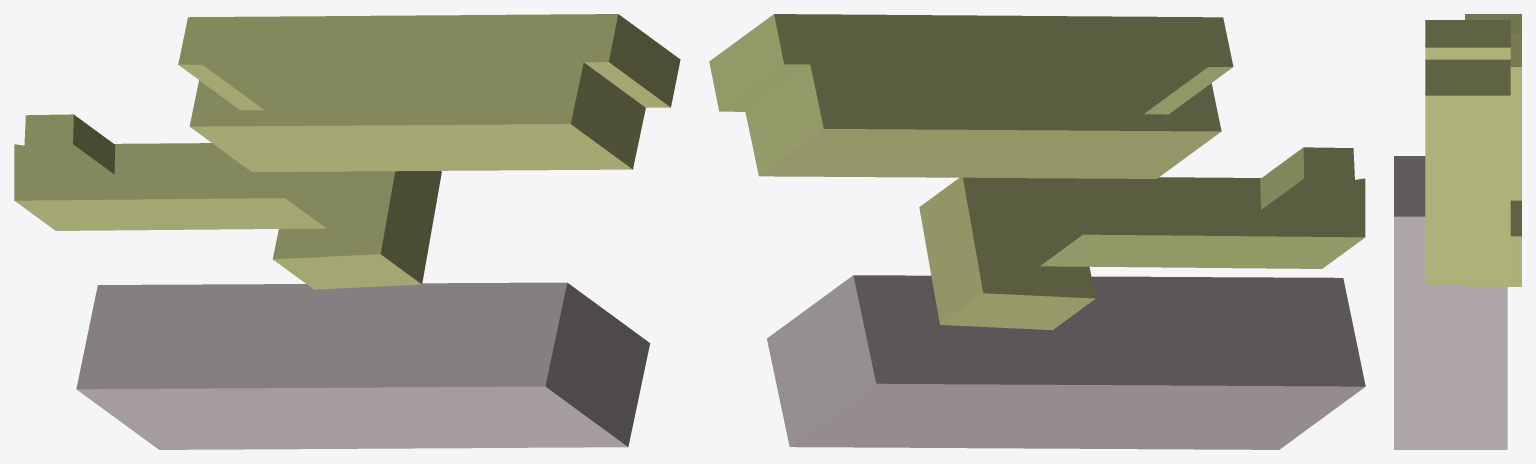
The picture shows the model from 3 angles, left to right: view 1: azimuth 30°, elevation 25°; view 2: azimuth 150°, elevation 25°; view 3: azimuth 270°, elevation 25°; orthographic projection. The views are drawn at different scales.
Parts seen in each view (by area): view 1: 0_1_0_0_1_3_2_2_2; view 2: 0_1_0_0_1_3_2_2_2; view 3: 0_1_0_0_1_3_2_2_2.
Part boxes in pixels (x1,y1,x2,y2): 0_1_0_0_1_3_2_2_2: [14, 14, 680, 449]; 0_1_0_0_1_3_2_2_2: [709, 14, 1365, 449]; 0_1_0_0_1_3_2_2_2: [1394, 14, 1521, 449].
Size of the model in its own units: 49.76 by 36.28 by 13.5.
